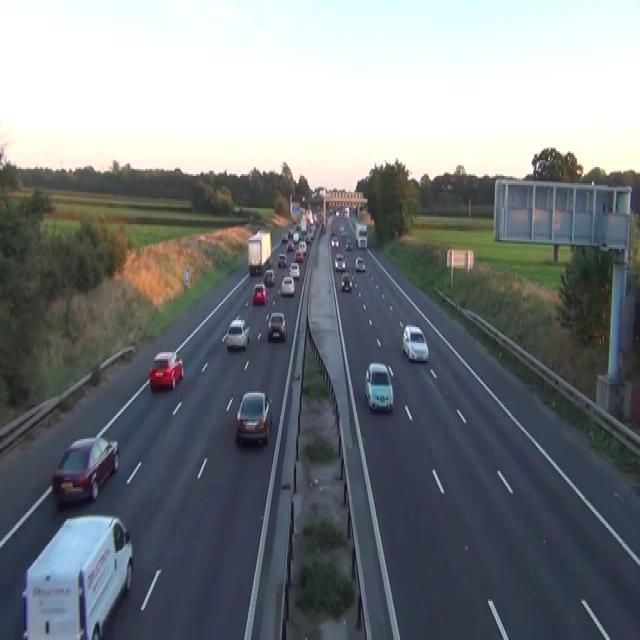Car: (51, 435, 119, 505), (235, 389, 272, 446), (364, 361, 393, 412), (149, 350, 183, 390), (402, 323, 428, 361), (225, 316, 250, 348), (267, 311, 286, 341), (252, 283, 267, 304), (280, 276, 295, 295), (340, 272, 352, 292), (263, 268, 275, 286), (334, 252, 345, 270), (289, 261, 300, 279), (354, 256, 365, 272), (277, 252, 287, 266), (298, 240, 306, 254), (330, 235, 339, 247), (294, 249, 303, 261), (357, 235, 366, 247), (345, 238, 353, 249), (339, 224, 346, 236), (286, 240, 293, 251), (305, 233, 312, 243), (293, 231, 299, 242), (281, 233, 287, 243), (287, 228, 293, 238), (314, 218, 320, 228), (295, 222, 301, 231), (330, 230, 337, 237), (321, 224, 326, 233), (335, 210, 339, 217)
Truck: (21, 514, 133, 638), (247, 229, 271, 274), (355, 221, 367, 247), (300, 215, 307, 233)
